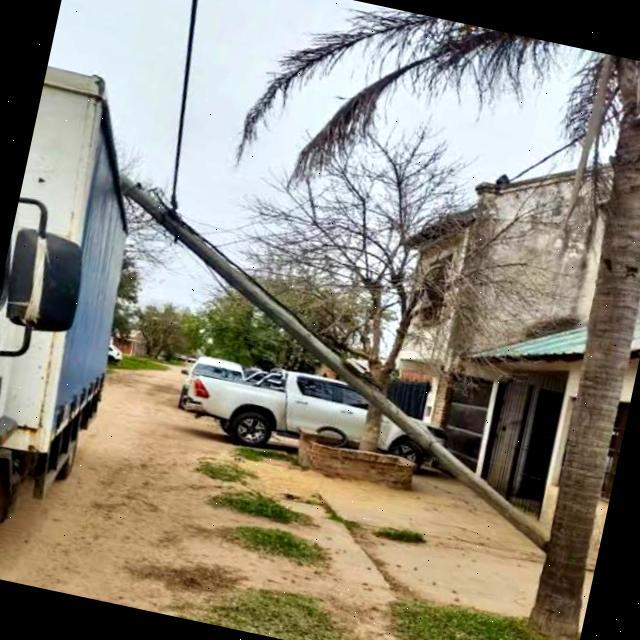Broken Pole: (113, 171, 552, 557)
